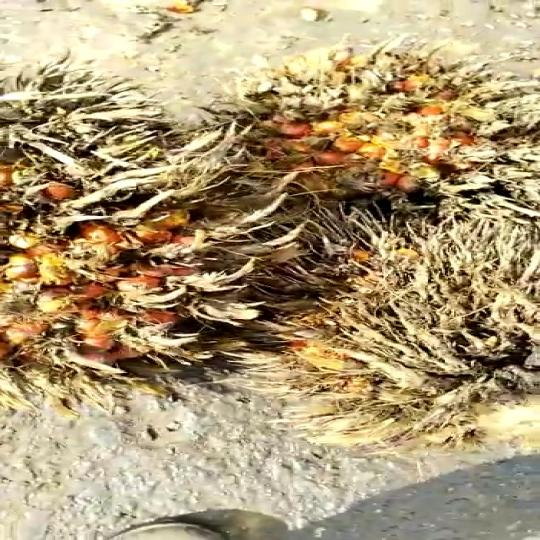terlalu masak: (254, 216, 540, 465), (178, 40, 540, 216)
